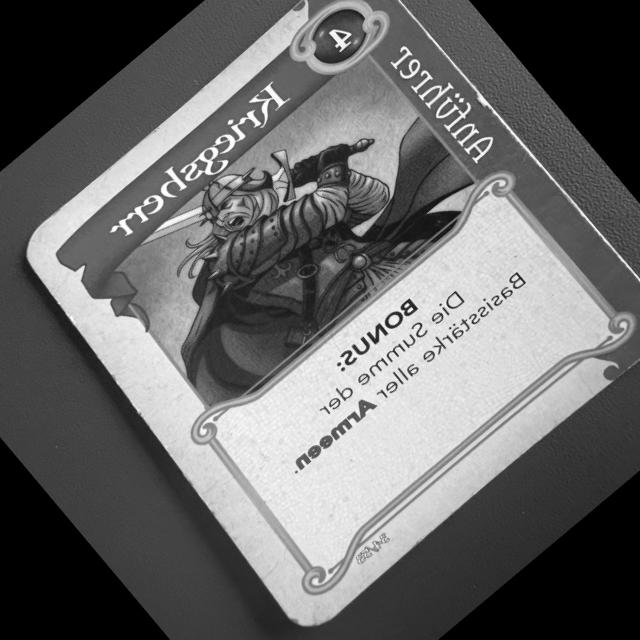Warlord: (6, 0, 640, 640)
